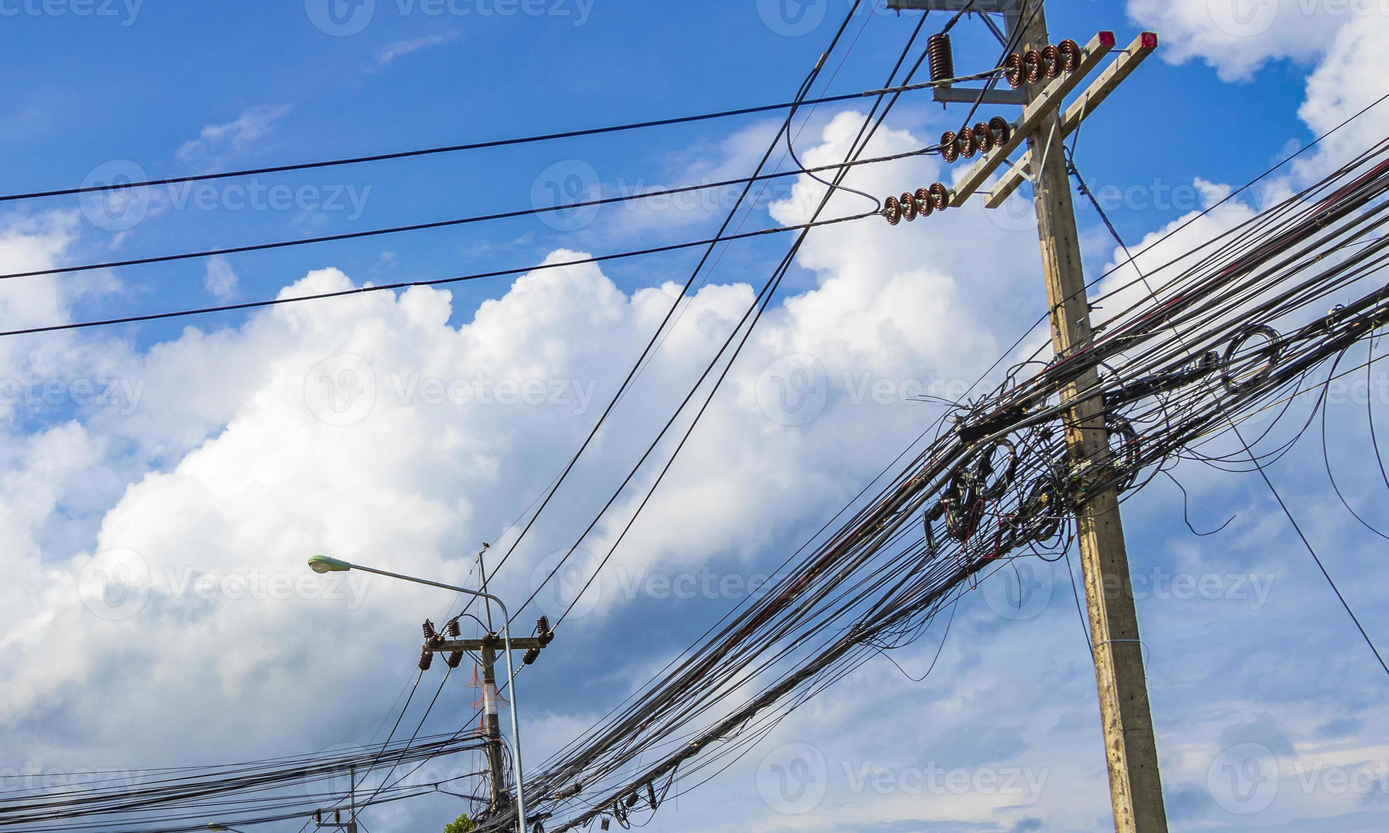wires-only: (529, 117, 1389, 833)
